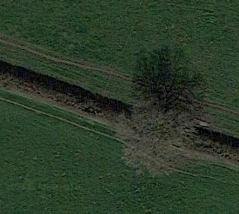tree: (121, 96, 198, 175)
